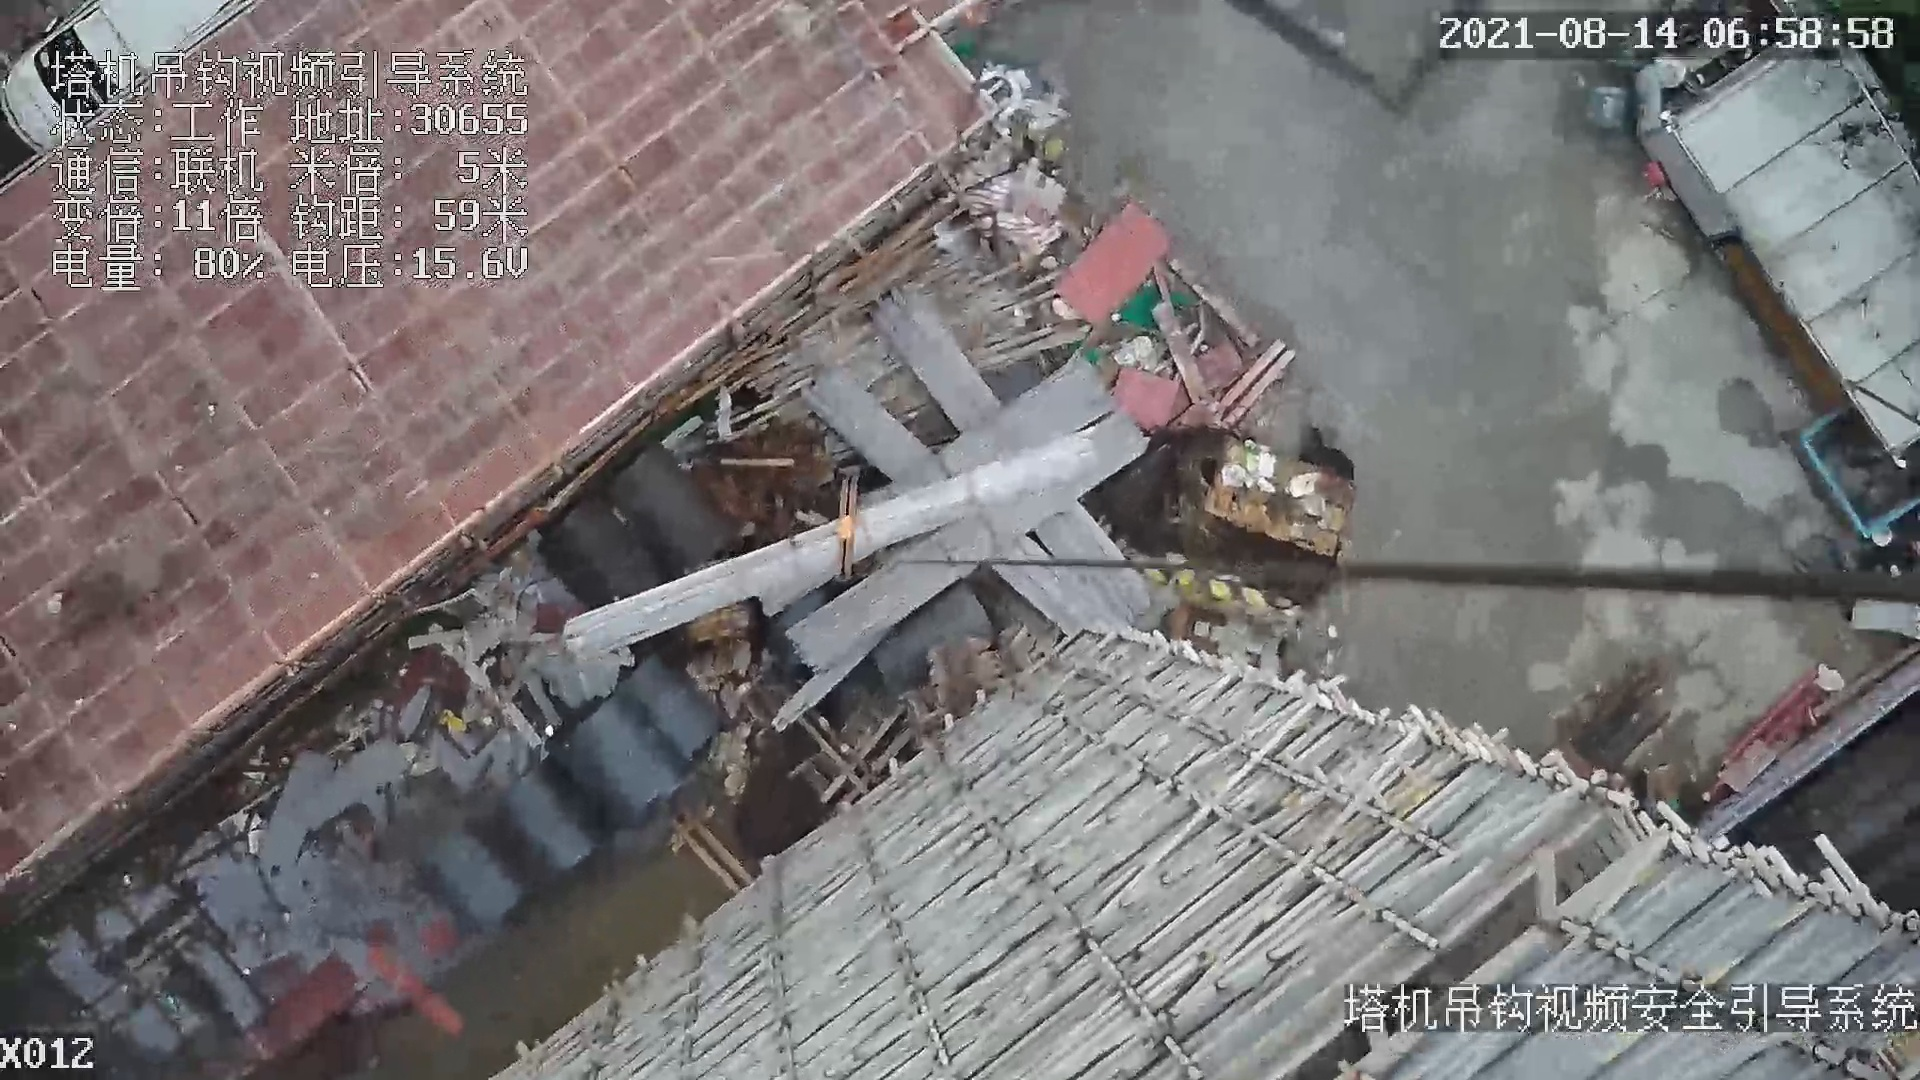hook: (824, 472, 866, 591)
rebar: (559, 430, 1095, 666), (781, 411, 1150, 684)
